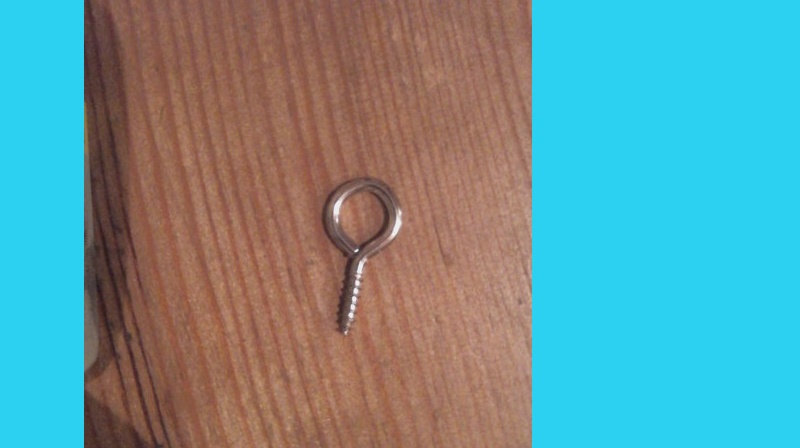O001: (319, 174, 406, 338)
